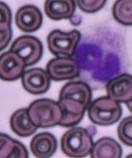N: (71, 25, 130, 88)
